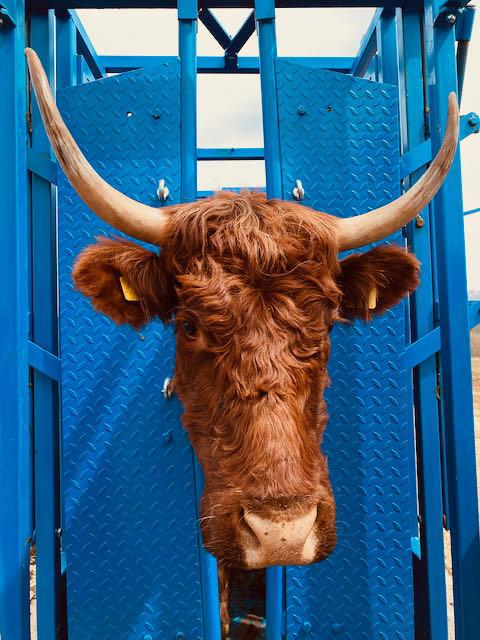muzzles: (190, 497, 348, 572)
